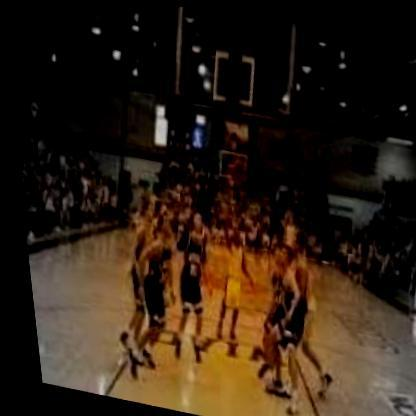basketball: (221, 155, 244, 185)
